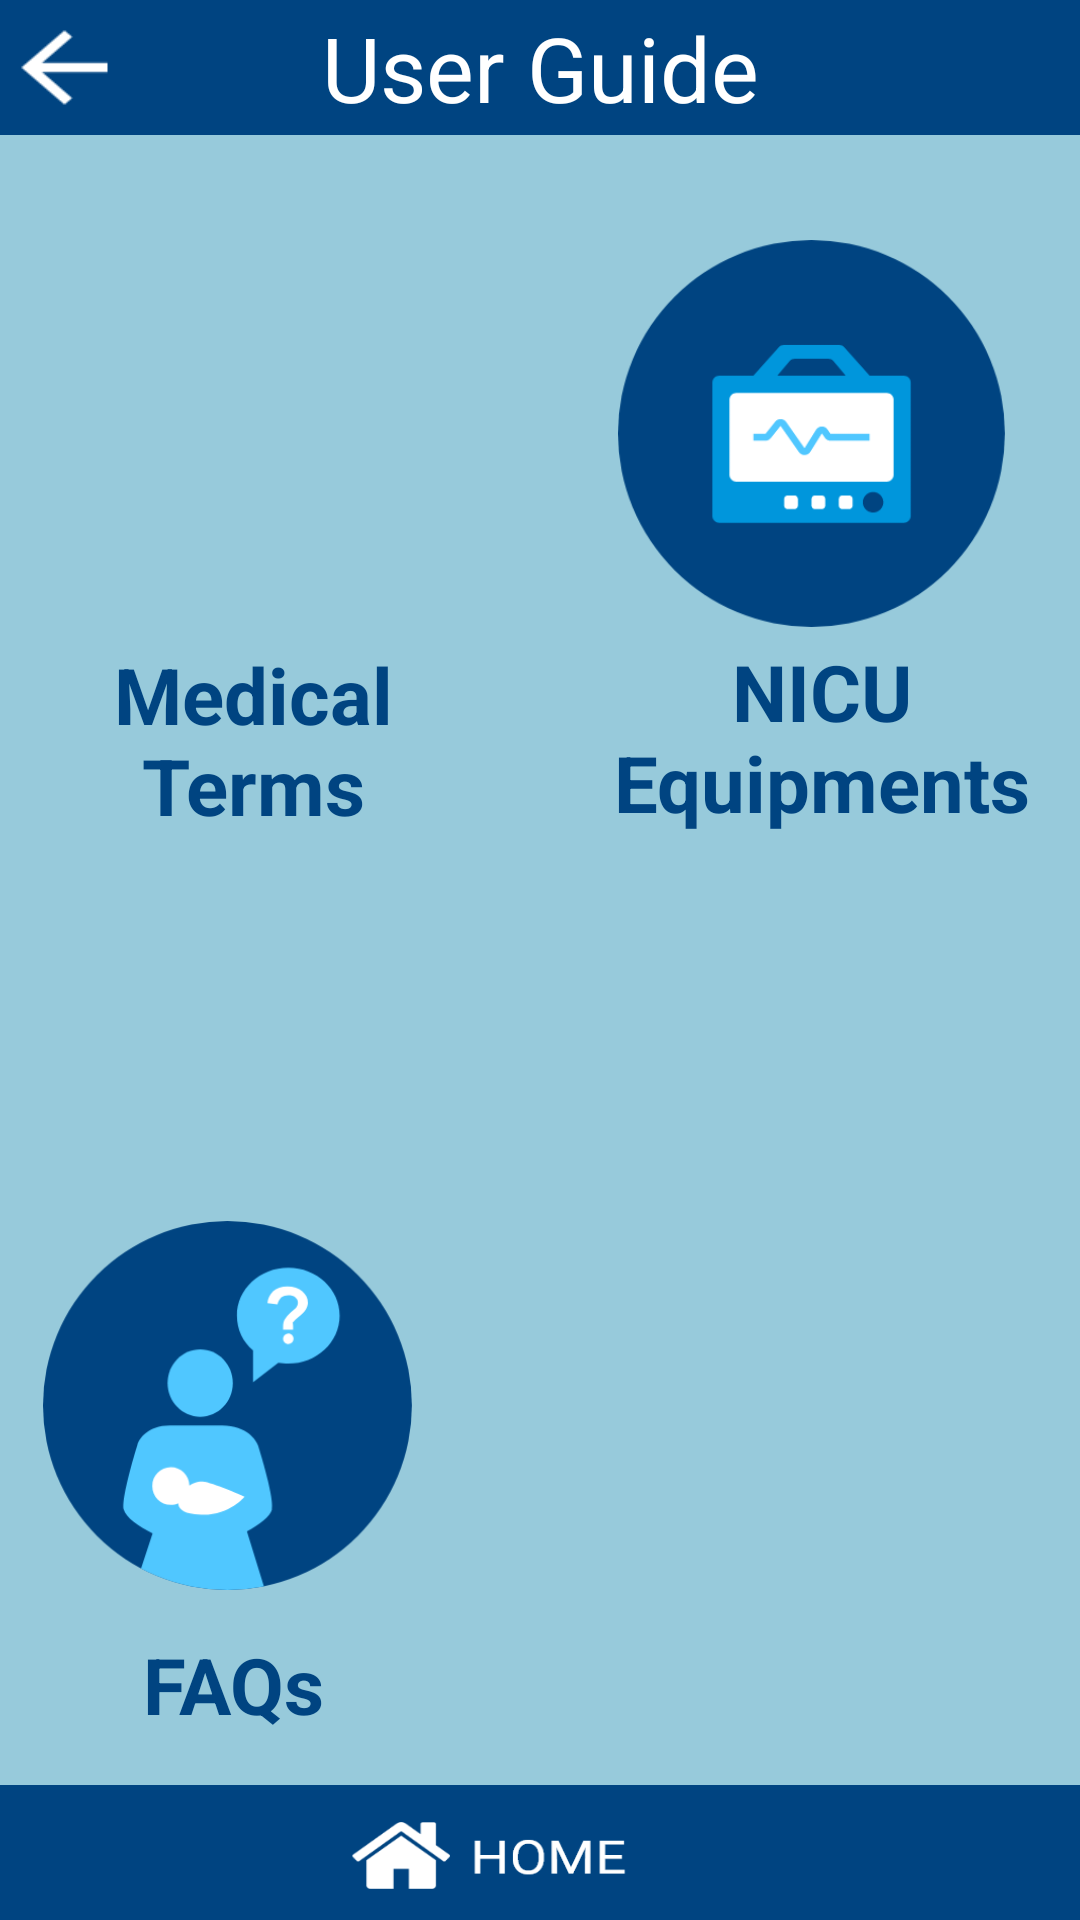

Icon bounding boxes for this 1080x1920 phone screenshot, format bbox=[x1, y1, x2, y2]:
back: bbox=[21, 30, 108, 105]
